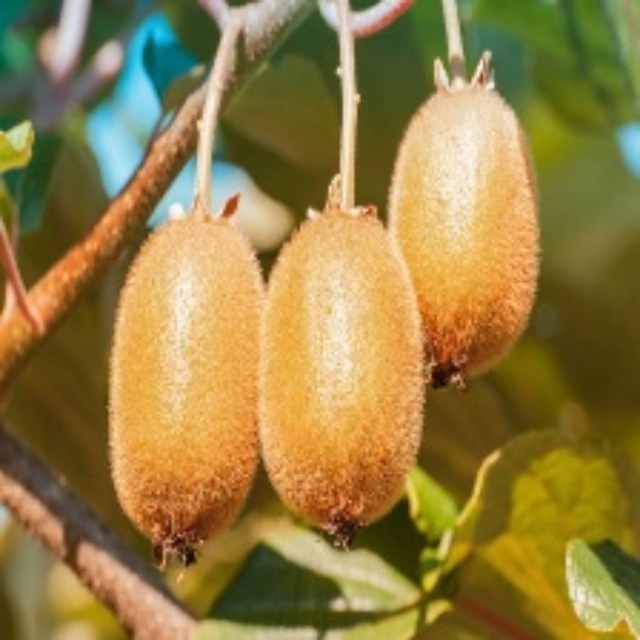kiwi: (103, 204, 280, 577), (375, 67, 557, 390), (255, 210, 428, 538)
